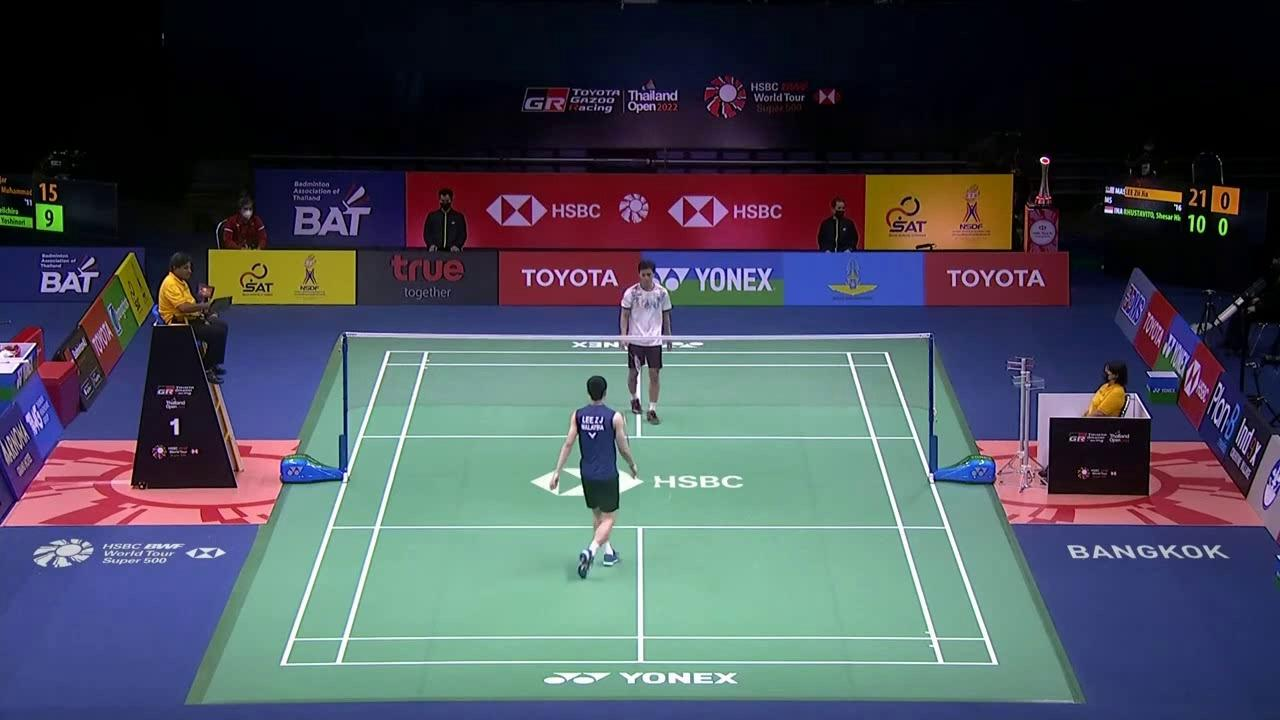racket: (621, 409, 637, 478), (621, 341, 643, 374)
shuttle: (653, 476, 662, 482)
